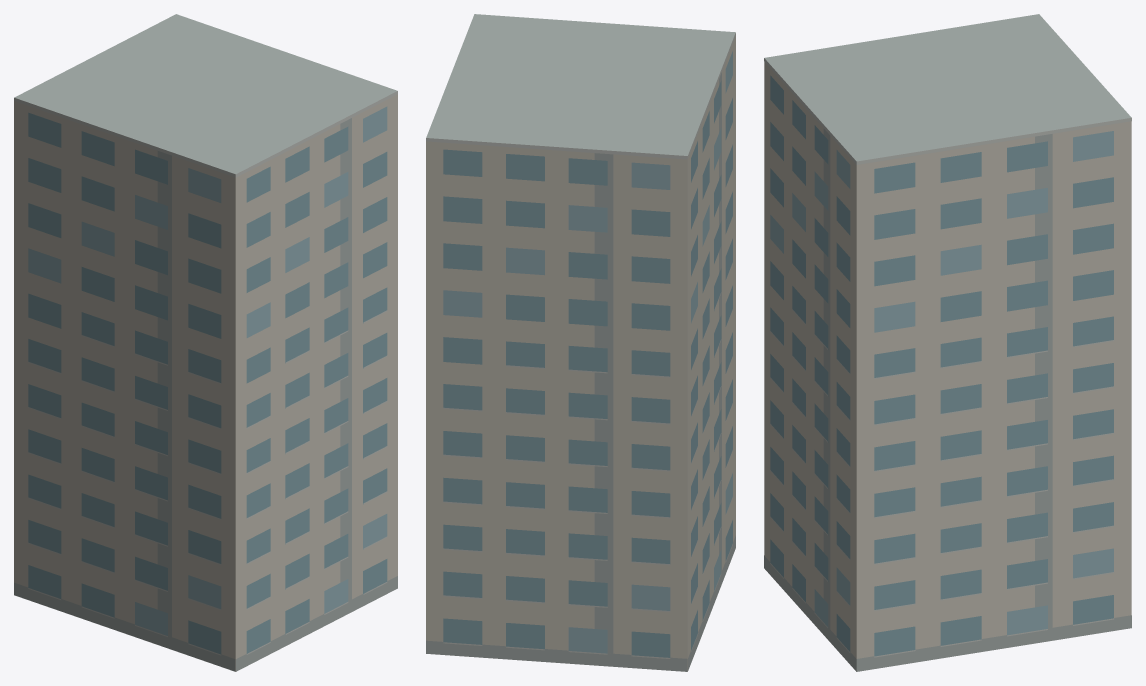
The model's file is residential-90852063-a905-4008-b2a1-2cae8185ff50.glb.
The picture shows the model from 3 angles, left to right: view 1: azimuth 30°, elevation 25°; view 2: azimuth 150°, elevation 25°; view 3: azimuth 270°, elevation 25°; orthographic projection. The views are drawn at different scales.
Visible parts, largest first — view 1: residential-90852063-a905-4008-b2a1-2cae8185ff50.tmp; view 2: residential-90852063-a905-4008-b2a1-2cae8185ff50.tmp; view 3: residential-90852063-a905-4008-b2a1-2cae8185ff50.tmp.
Part boxes in pixels (<box>): residential-90852063-a905-4008-b2a1-2cae8185ff50.tmp: <box>14,14,397,671</box>; residential-90852063-a905-4008-b2a1-2cae8185ff50.tmp: <box>426,14,735,671</box>; residential-90852063-a905-4008-b2a1-2cae8185ff50.tmp: <box>764,14,1131,671</box>.
Bounding box in the file's own units: 22.33 × 36 × 23.51.
